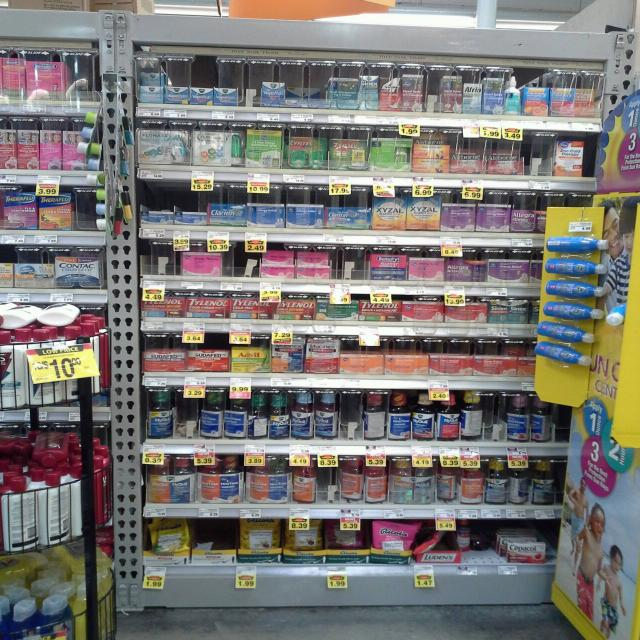void: (192, 520, 232, 562), (527, 138, 551, 174), (141, 252, 178, 272), (344, 392, 360, 438), (229, 252, 257, 272)
